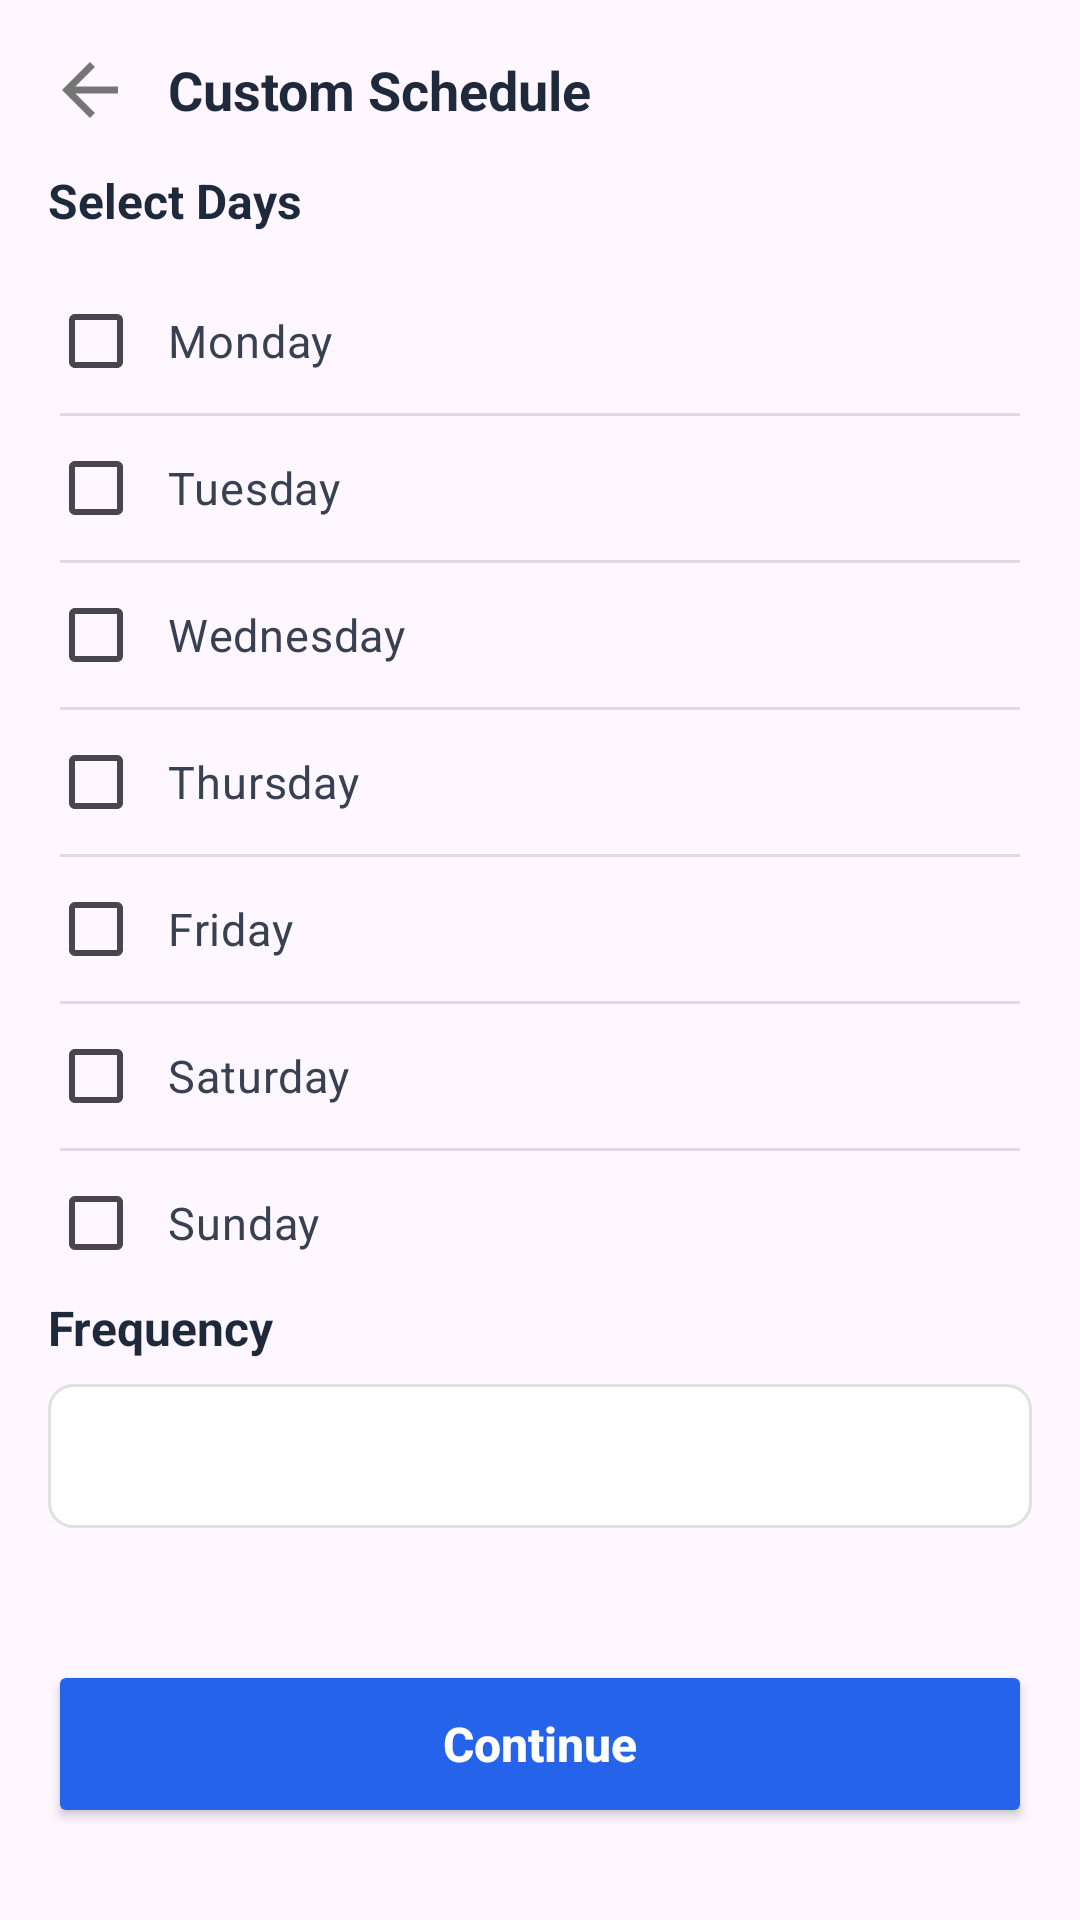

Where to tap for icons on this 1080x1920 app screen, as [x,y]:
Back: [90,90]
